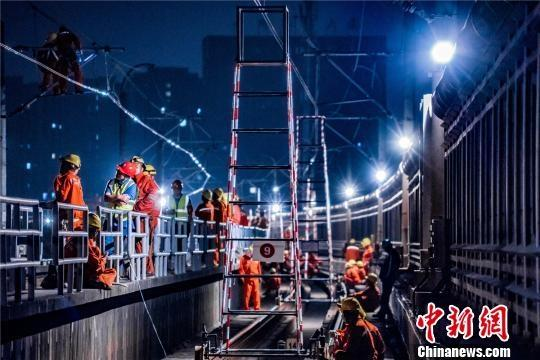helmet: (60, 152, 86, 172), (118, 158, 138, 177), (342, 297, 362, 312), (144, 164, 159, 176), (201, 187, 212, 200)
wear: (432, 2, 538, 215), (108, 180, 134, 222), (135, 175, 158, 222), (58, 178, 83, 219), (168, 194, 191, 231), (240, 256, 261, 287), (198, 202, 214, 226)
